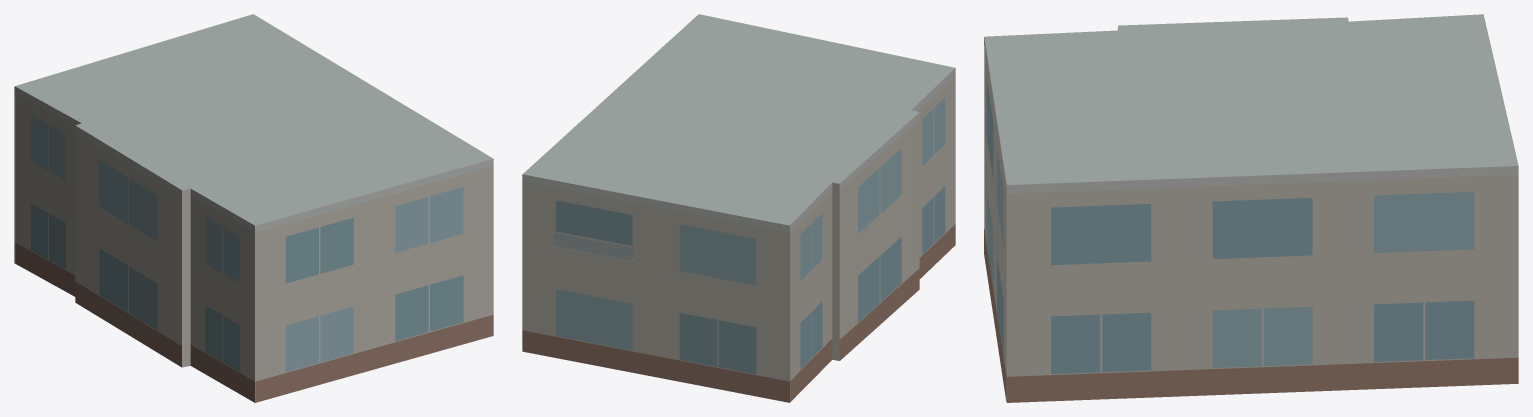
The model's file is survey-upis-32711388.glb.
3 renders of one model, left to right at view 1: azimuth 30°, elevation 25°; view 2: azimuth 150°, elevation 25°; view 3: azimuth 270°, elevation 25°, orthographic. The views are drawn at different scales.
Parts seen in each view (by area): view 1: survey-upis-32711388.tmp; view 2: survey-upis-32711388.tmp; view 3: survey-upis-32711388.tmp.
Part boxes in pixels (box(x1,y1,x2,y2)): survey-upis-32711388.tmp: box(14, 14, 493, 402); survey-upis-32711388.tmp: box(522, 14, 955, 402); survey-upis-32711388.tmp: box(984, 14, 1518, 402).
Bounding box in the file's own units: 10.29 × 6.1 × 13.58.
